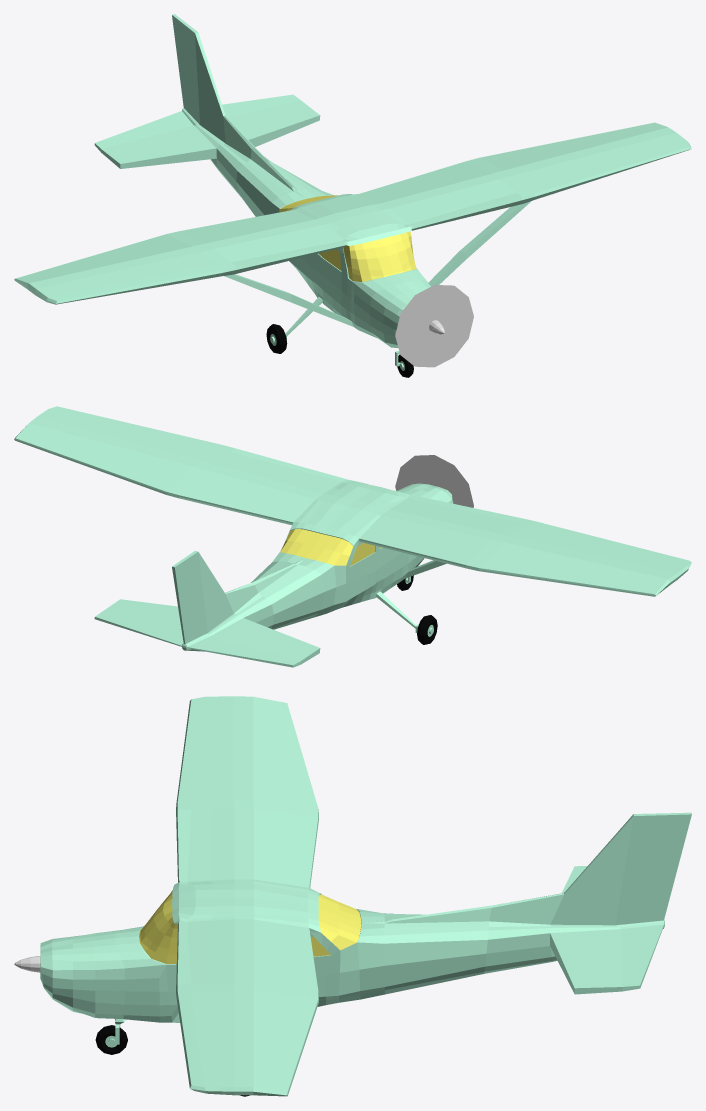
The model's file is cessna 1.fbx.
3 views of the same model, one above another, from view 1: azimuth 30°, elevation 25°; view 2: azimuth 150°, elevation 25°; view 3: azimuth 270°, elevation 25° (orthographic). The views are drawn at different scales.
Visible parts, largest first — view 1: body, propeller; view 2: body, propeller, wheel.001; view 3: body, front wheel.
Boxes of the visible parts, left/top/right/bottom form: body: left=14, top=14, right=691, bottom=366; propeller: left=395, top=285, right=473, bottom=367; body: left=14, top=406, right=691, bottom=667; propeller: left=395, top=455, right=473, bottom=507; wheel.001: left=417, top=615, right=437, bottom=644; body: left=40, top=696, right=691, bottom=1096; front wheel: left=95, top=1025, right=127, bottom=1054.
Size of the model in its own units: 1093 by 313 by 797.
